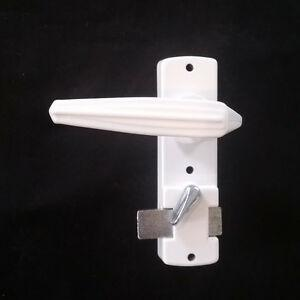doorhandle: (44, 69, 268, 177)
